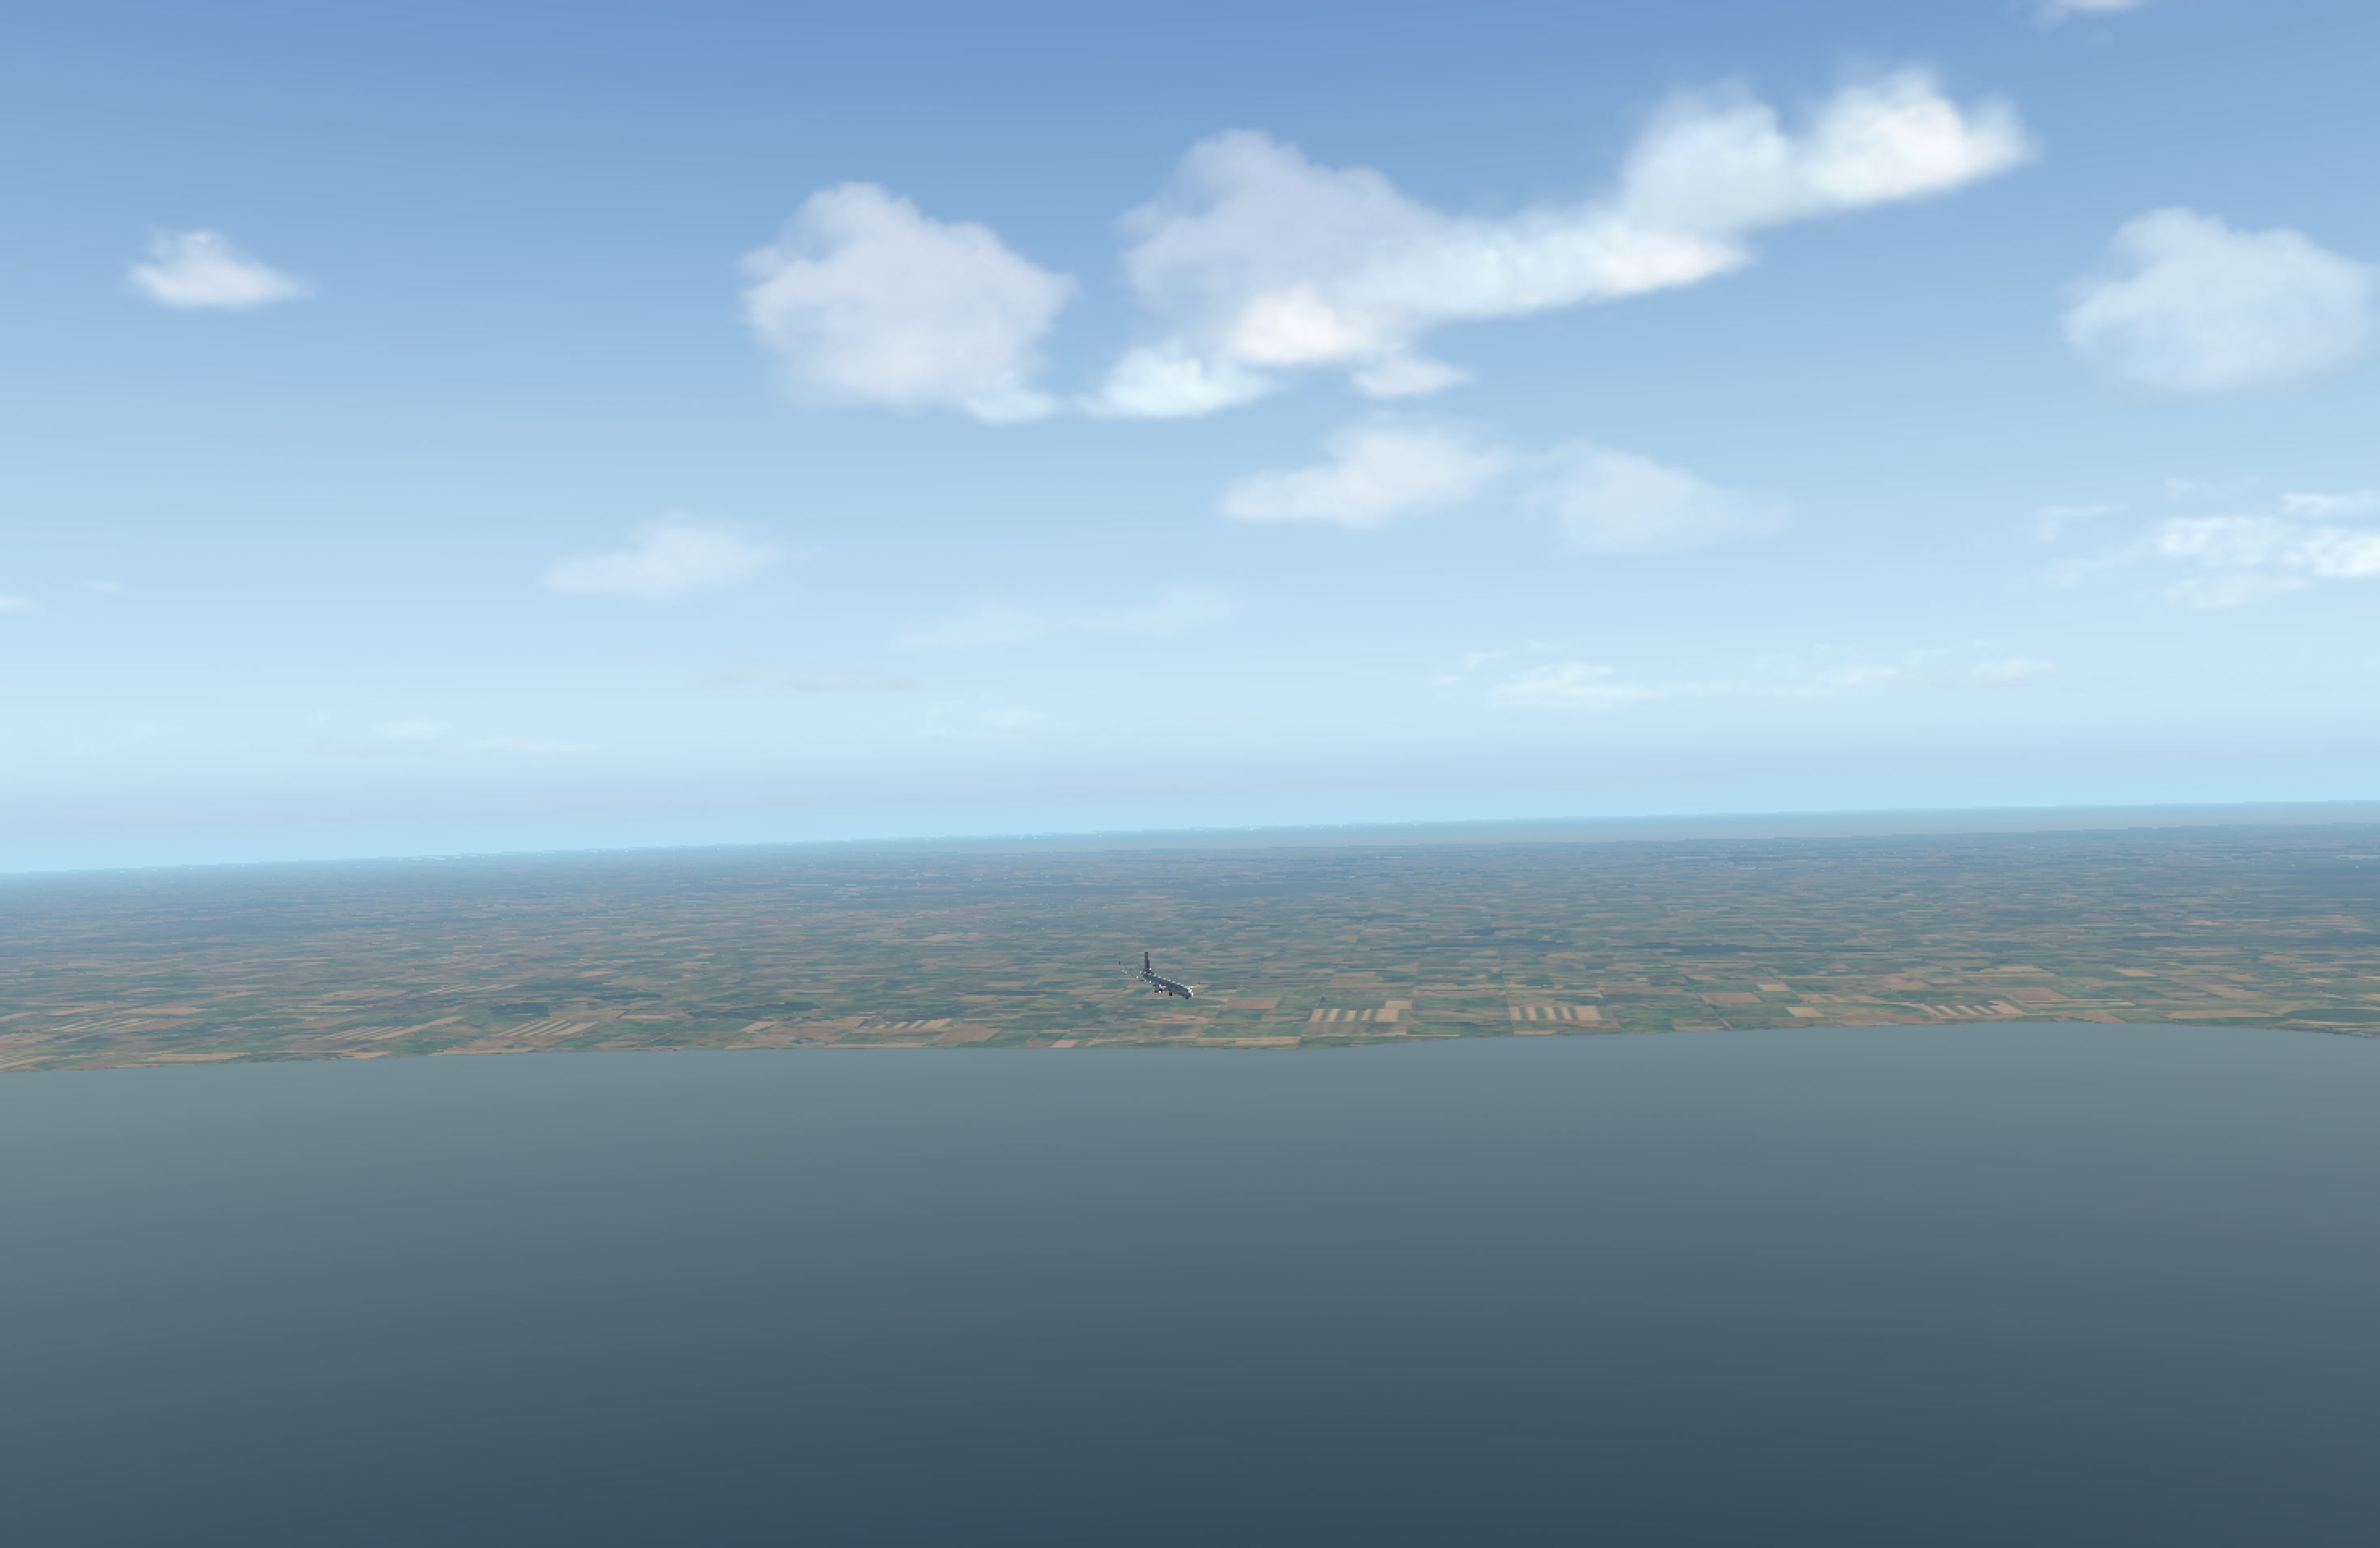aircraft: (1114, 967, 1221, 1007)
